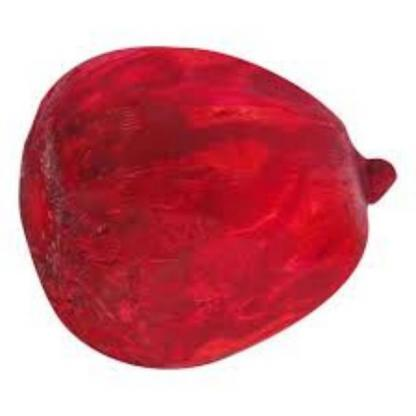beet: (12, 38, 392, 370)
